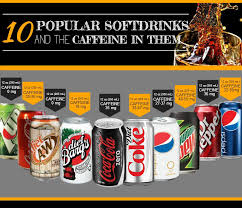can: (30, 107, 63, 186), (92, 119, 125, 188), (155, 117, 185, 188), (61, 117, 91, 186), (124, 114, 151, 187), (194, 100, 222, 164), (221, 97, 242, 158), (179, 113, 198, 174), (16, 105, 29, 171)
